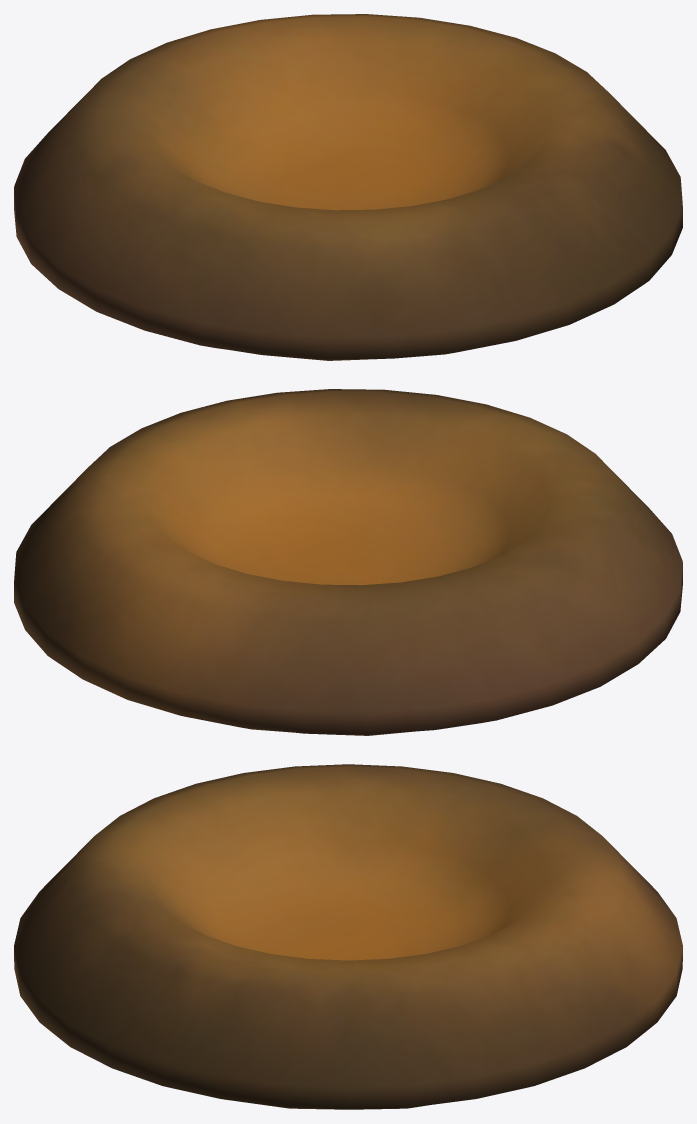
File: plantedHole.glb
The picture shows the model from 3 angles, top to bottom: view 1: azimuth 30°, elevation 25°; view 2: azimuth 150°, elevation 25°; view 3: azimuth 270°, elevation 25°; orthographic projection.
Parts seen in each view (by area): view 1: CarrotHole; view 2: CarrotHole; view 3: CarrotHole.
Part boxes in pixels (left/top/right/bottom): CarrotHole: left=14, top=14, right=682, bottom=360; CarrotHole: left=14, top=389, right=682, bottom=735; CarrotHole: left=14, top=764, right=682, bottom=1109.
Size of the model in its own units: 3.47 by 0.6995 by 3.47.
Materials: 1 (1 with a texture image).
